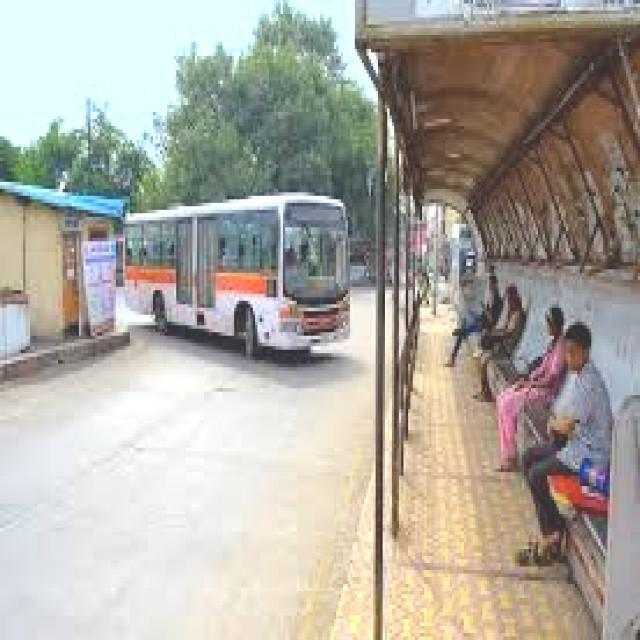Bus: (112, 168, 358, 378)
